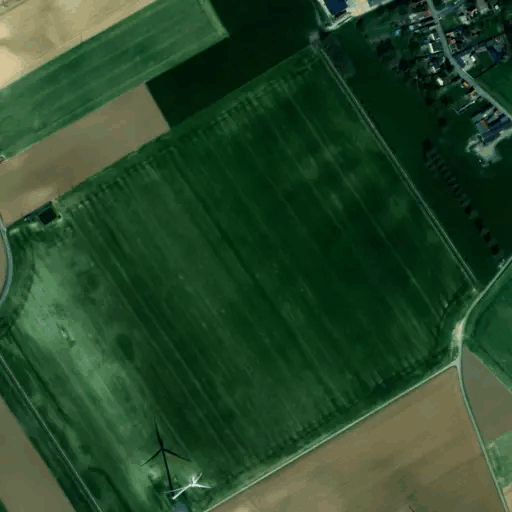wt: (144, 412, 212, 508)
